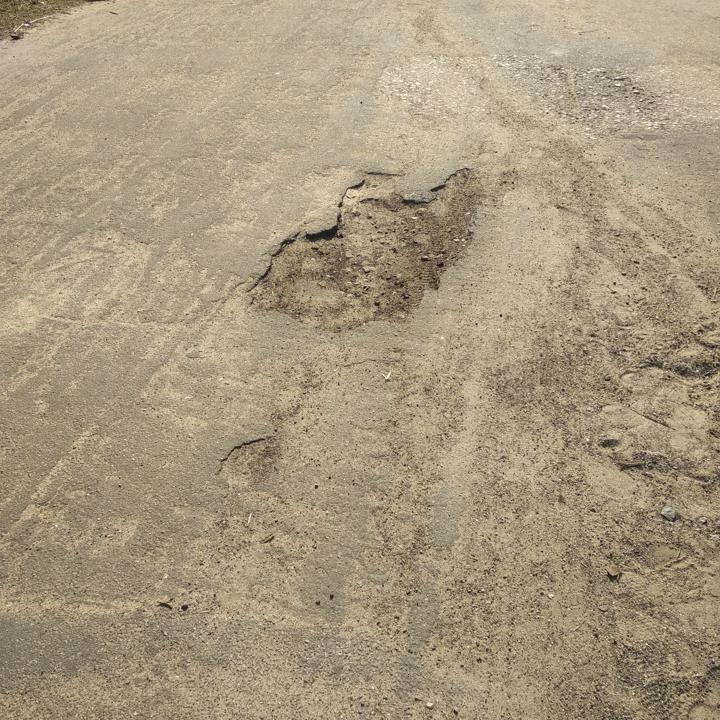pothole: (240, 163, 486, 335), (214, 432, 280, 492)
